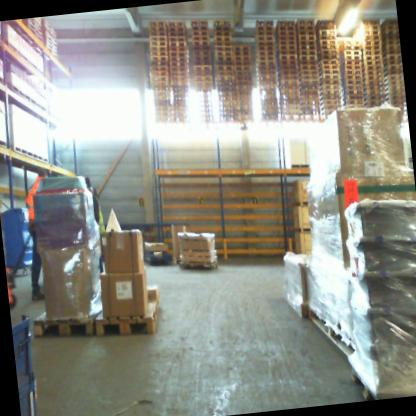pallet: (92, 286, 163, 339), (31, 303, 103, 343), (177, 256, 219, 275), (214, 39, 232, 54), (149, 64, 169, 75), (364, 62, 384, 73), (150, 84, 171, 94), (193, 74, 214, 84), (150, 74, 169, 85), (149, 49, 168, 60), (301, 96, 320, 107), (322, 86, 341, 97), (150, 79, 170, 89), (193, 69, 213, 79), (215, 73, 235, 83), (279, 62, 299, 72), (345, 91, 365, 101), (365, 77, 385, 87), (364, 67, 384, 77), (361, 22, 381, 32), (213, 18, 231, 29), (319, 32, 337, 43), (344, 61, 362, 72), (150, 69, 169, 79), (149, 58, 168, 68), (149, 54, 168, 64), (149, 44, 168, 54), (149, 34, 168, 44), (169, 64, 188, 74), (169, 59, 188, 69), (168, 49, 187, 59), (168, 44, 187, 54), (167, 24, 186, 34), (193, 63, 212, 73), (190, 28, 209, 38), (217, 83, 236, 93), (216, 77, 235, 87), (216, 68, 235, 78), (215, 59, 234, 69), (213, 34, 232, 44), (256, 33, 275, 43), (282, 110, 301, 120), (280, 77, 299, 87), (278, 37, 297, 47), (302, 111, 321, 121), (300, 72, 319, 82), (300, 62, 319, 72), (297, 27, 316, 37), (296, 16, 315, 26), (324, 101, 343, 111), (320, 56, 339, 66), (318, 22, 337, 32), (346, 96, 365, 106), (345, 86, 364, 96), (345, 82, 364, 92), (344, 72, 363, 82), (344, 67, 363, 77), (343, 56, 362, 66), (343, 52, 362, 62), (365, 72, 384, 82), (364, 57, 383, 67), (366, 97, 387, 106), (153, 99, 171, 109), (169, 54, 187, 64), (168, 39, 186, 49), (168, 34, 186, 44), (194, 79, 214, 88), (193, 44, 211, 54), (192, 38, 210, 48), (216, 63, 234, 73), (215, 49, 233, 59), (280, 86, 300, 95), (278, 52, 298, 61), (301, 92, 319, 102), (301, 87, 319, 97), (301, 82, 319, 92), (301, 77, 319, 87), (299, 52, 317, 62), (298, 37, 316, 47), (322, 81, 340, 91), (322, 76, 340, 86), (322, 71, 340, 81), (319, 37, 337, 47), (319, 27, 337, 37), (343, 47, 361, 57), (343, 42, 361, 52), (366, 92, 386, 101), (366, 87, 386, 96), (363, 53, 383, 62), (362, 47, 382, 56), (362, 37, 382, 46), (362, 32, 382, 41), (148, 24, 167, 33), (147, 19, 166, 28), (169, 70, 188, 79), (167, 30, 186, 39), (193, 58, 212, 67), (191, 34, 210, 43), (190, 23, 209, 32), (213, 29, 232, 38), (213, 24, 232, 33), (235, 83, 254, 92), (259, 77, 278, 86), (258, 72, 277, 81), (232, 53, 251, 62), (232, 43, 251, 52), (256, 43, 275, 52), (256, 38, 275, 47), (255, 28, 274, 37), (255, 23, 274, 32), (281, 92, 300, 101), (281, 82, 300, 91), (280, 72, 299, 81), (278, 47, 297, 56), (278, 43, 297, 52), (277, 28, 296, 37), (277, 23, 296, 32), (300, 67, 319, 76), (299, 58, 318, 67), (298, 47, 317, 56), (298, 42, 317, 51), (297, 32, 316, 41), (322, 97, 341, 106), (322, 92, 341, 101), (366, 82, 385, 91), (321, 46, 338, 56), (343, 37, 360, 47), (362, 43, 383, 51), (149, 39, 167, 48), (167, 19, 185, 28), (193, 54, 211, 63), (215, 54, 233, 63), (235, 78, 253, 87), (234, 73, 252, 82), (234, 69, 252, 78), (233, 58, 251, 67), (257, 53, 275, 62), (257, 48, 275, 57), (282, 102, 300, 111), (280, 67, 298, 76), (277, 18, 295, 27), (302, 107, 320, 116), (302, 102, 320, 111), (297, 22, 315, 31), (345, 77, 363, 86), (236, 88, 252, 98), (361, 28, 381, 36), (390, 97, 406, 107), (154, 109, 171, 118), (154, 105, 171, 114), (153, 94, 170, 103), (237, 107, 254, 116), (236, 98, 253, 107), (322, 67, 339, 76), (322, 62, 339, 71), (321, 51, 338, 60), (320, 42, 337, 51), (317, 17, 334, 26), (388, 83, 405, 92), (148, 29, 167, 37), (170, 79, 189, 87), (258, 63, 277, 71), (233, 64, 252, 72), (255, 18, 274, 26), (279, 58, 298, 66), (278, 34, 297, 42), (346, 102, 365, 110), (153, 89, 169, 98), (170, 75, 188, 83), (193, 49, 211, 57), (190, 18, 208, 26), (237, 103, 253, 112), (236, 93, 252, 102), (258, 68, 276, 76), (233, 49, 251, 57), (258, 59, 276, 67), (282, 107, 300, 115), (281, 97, 299, 105), (389, 87, 405, 96), (388, 77, 404, 86), (387, 67, 403, 76), (155, 115, 172, 123), (389, 93, 406, 101), (386, 52, 401, 61), (386, 47, 401, 56), (385, 37, 400, 46), (388, 73, 404, 81), (387, 63, 403, 71), (387, 58, 402, 66), (386, 43, 400, 51), (385, 33, 399, 40), (385, 28, 399, 35), (385, 23, 398, 30)
pallet_truck: (1, 220, 43, 308)
